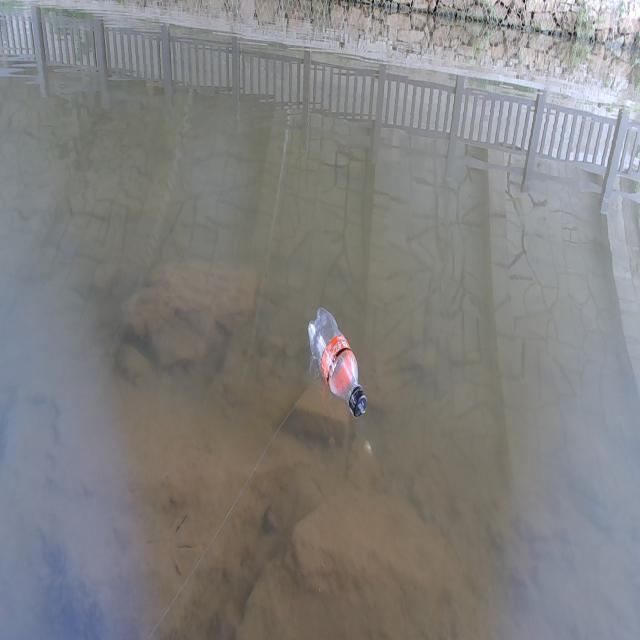garbage: (307, 306, 367, 419)
